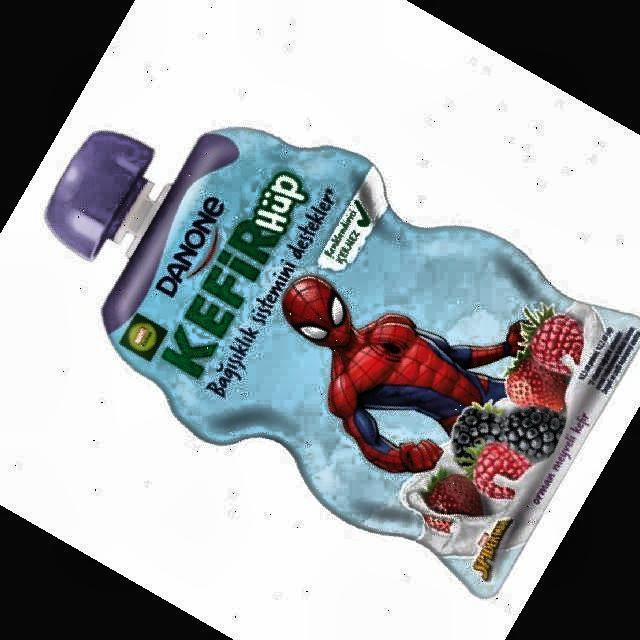plastic: (46, 129, 640, 598)
